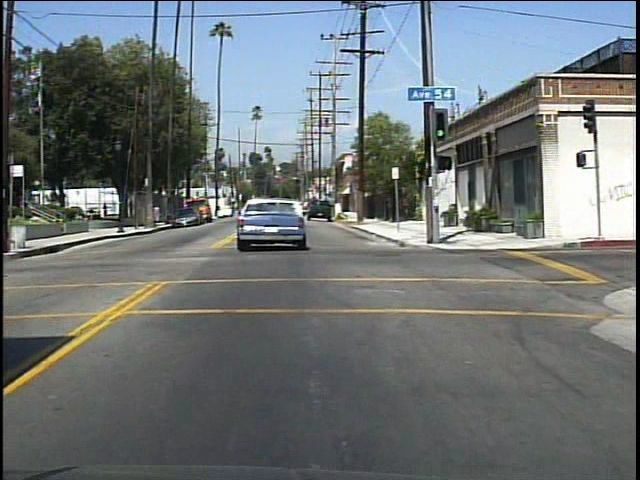person: (153, 202, 163, 229), (100, 200, 111, 220), (128, 198, 137, 220)
